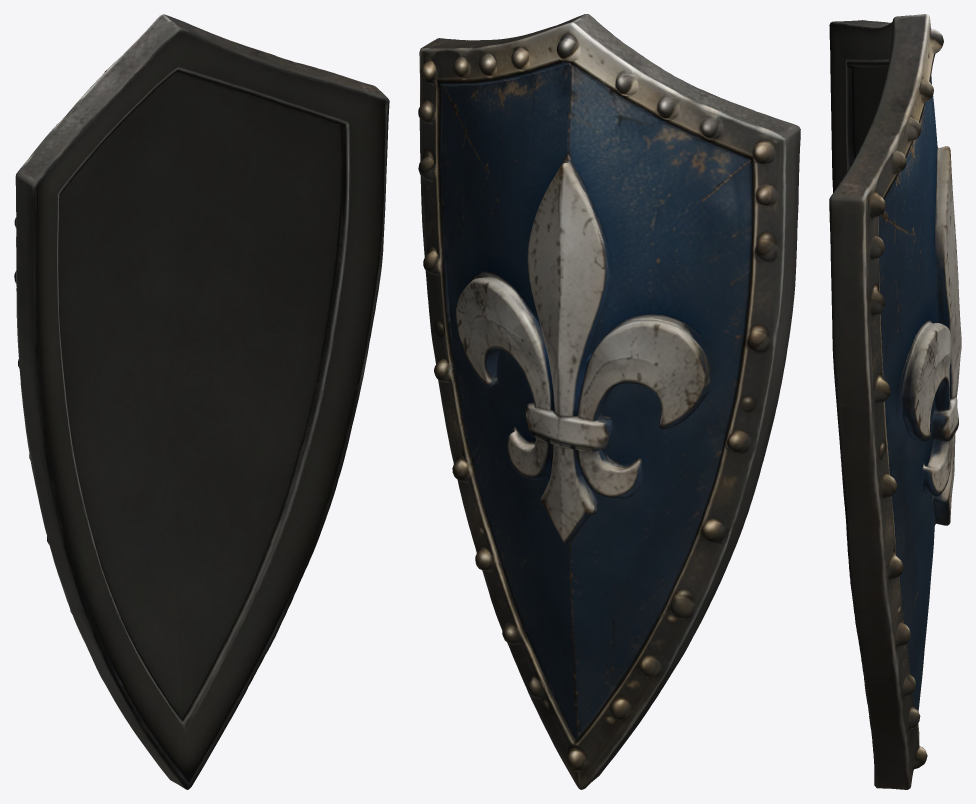
The model's file is kite_blue_fleur.glb.
The picture shows the model from 3 angles, left to right: view 1: azimuth 30°, elevation 25°; view 2: azimuth 150°, elevation 25°; view 3: azimuth 270°, elevation 25°; orthographic projection. The views are drawn at different scales.
Parts seen in each view (by area): view 1: kite_blue_fleur; view 2: kite_blue_fleur; view 3: kite_blue_fleur.
Part boxes in pixels (x1=…): kite_blue_fleur: x1=14, y1=14, x2=389, y2=789; kite_blue_fleur: x1=418, y1=14, x2=800, y2=789; kite_blue_fleur: x1=829, y1=14, x2=961, y2=789.
Bounding box in the file's own units: 0.405 × 0.8148 × 0.1264.
1 material, 1 textured.
